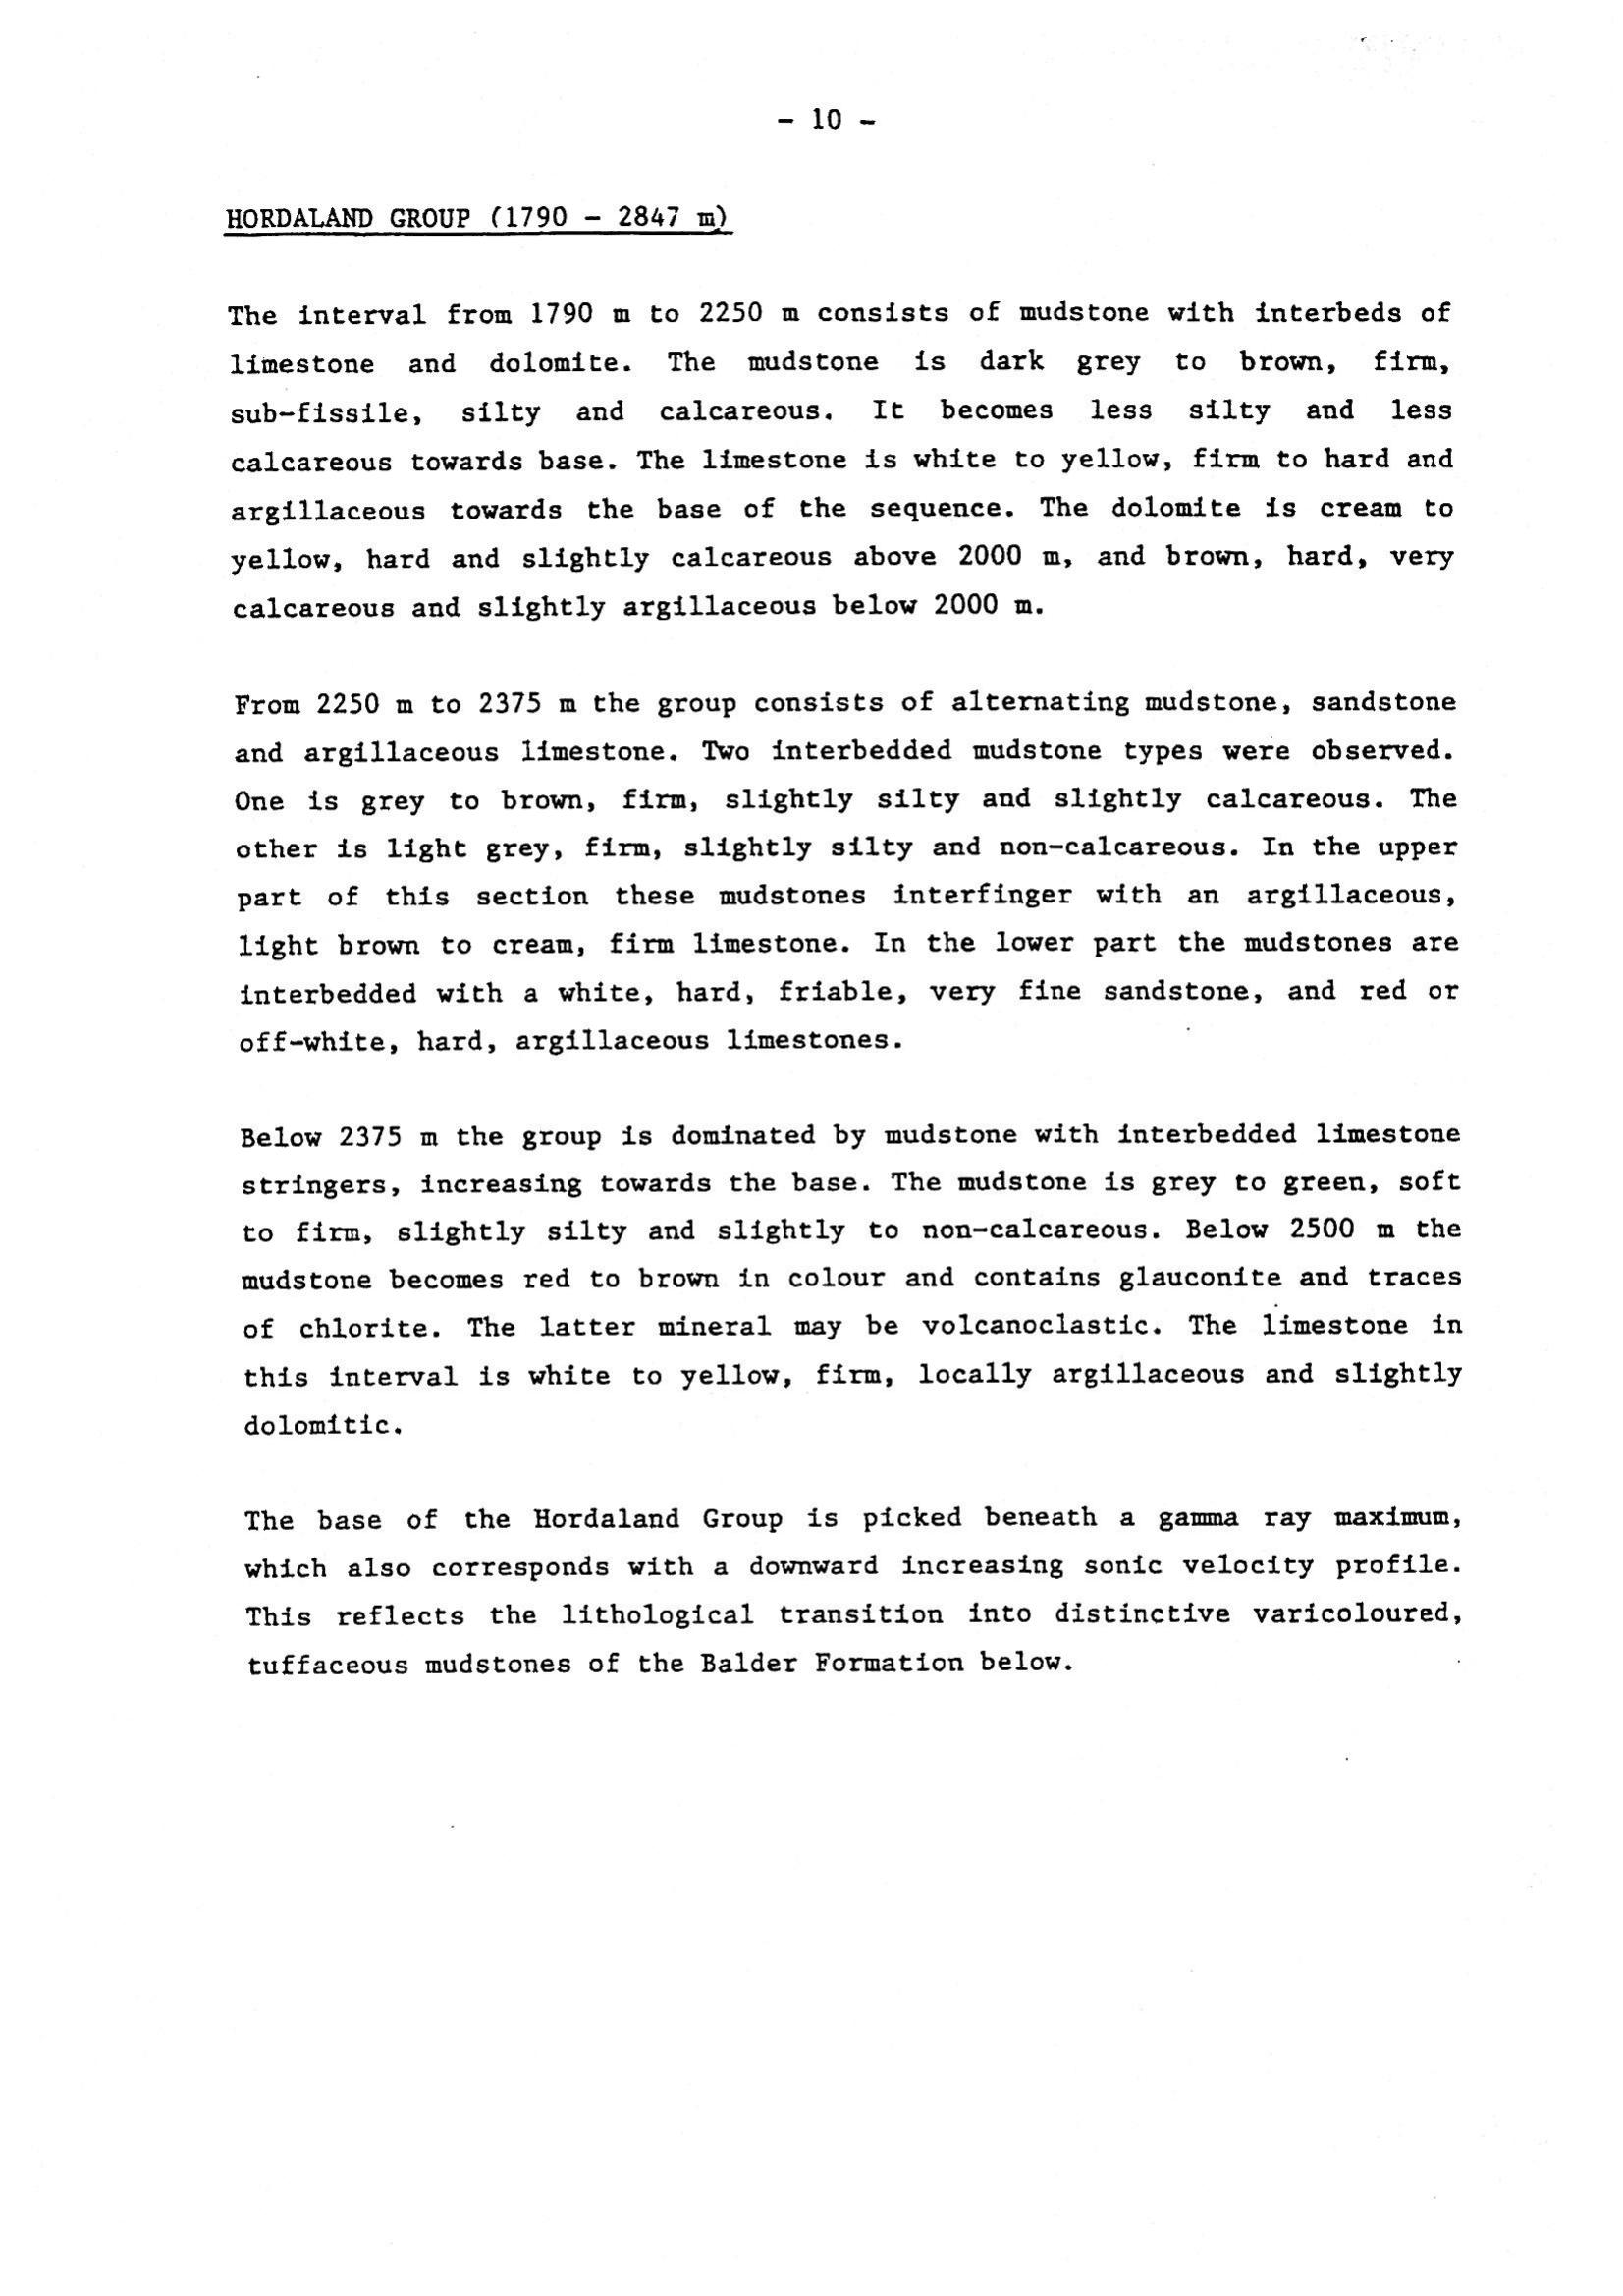text: (211, 169, 1488, 1713)
